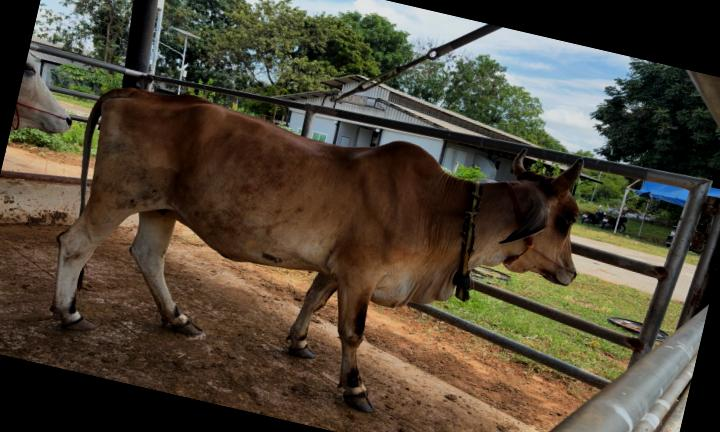Brahman: (51, 88, 583, 411)
